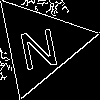N: (15, 19, 61, 71)
